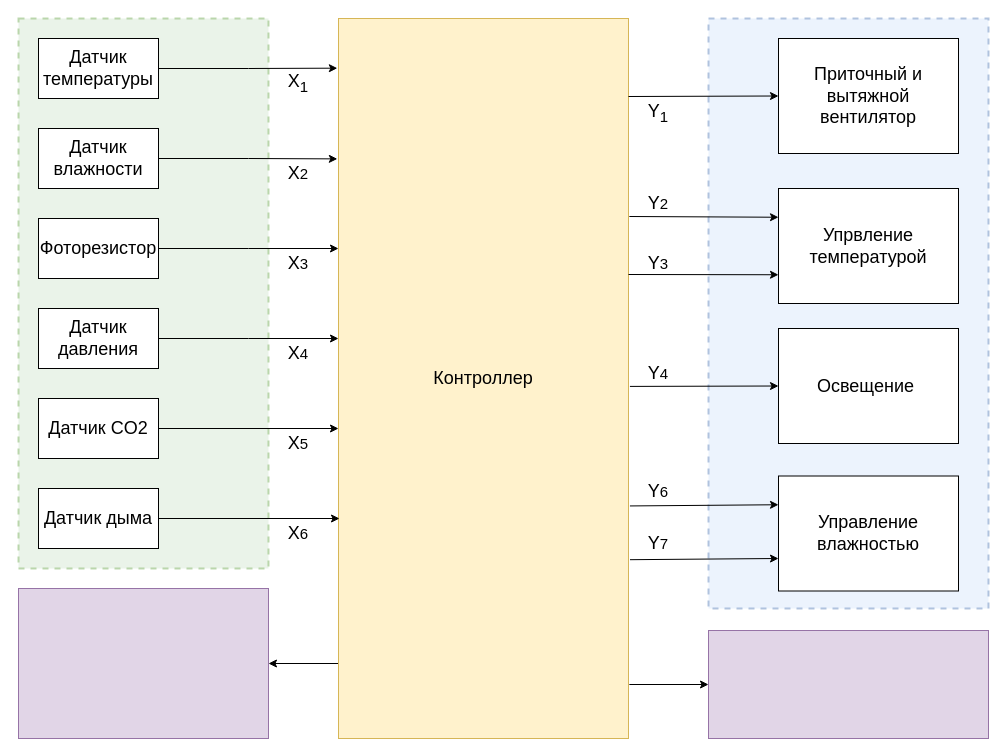
Image size: 1006x756. Some labels were removed from this diagram. The box of each missing label's shape, as (x1, y1, x2, y2) in pixels:
Индикация: (18, 588, 268, 738)
Сигнализация: (708, 630, 988, 738)
